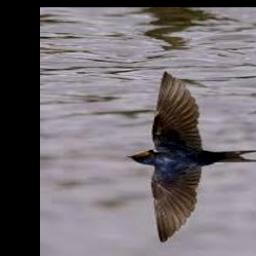Swallow: (128, 71, 256, 243)
